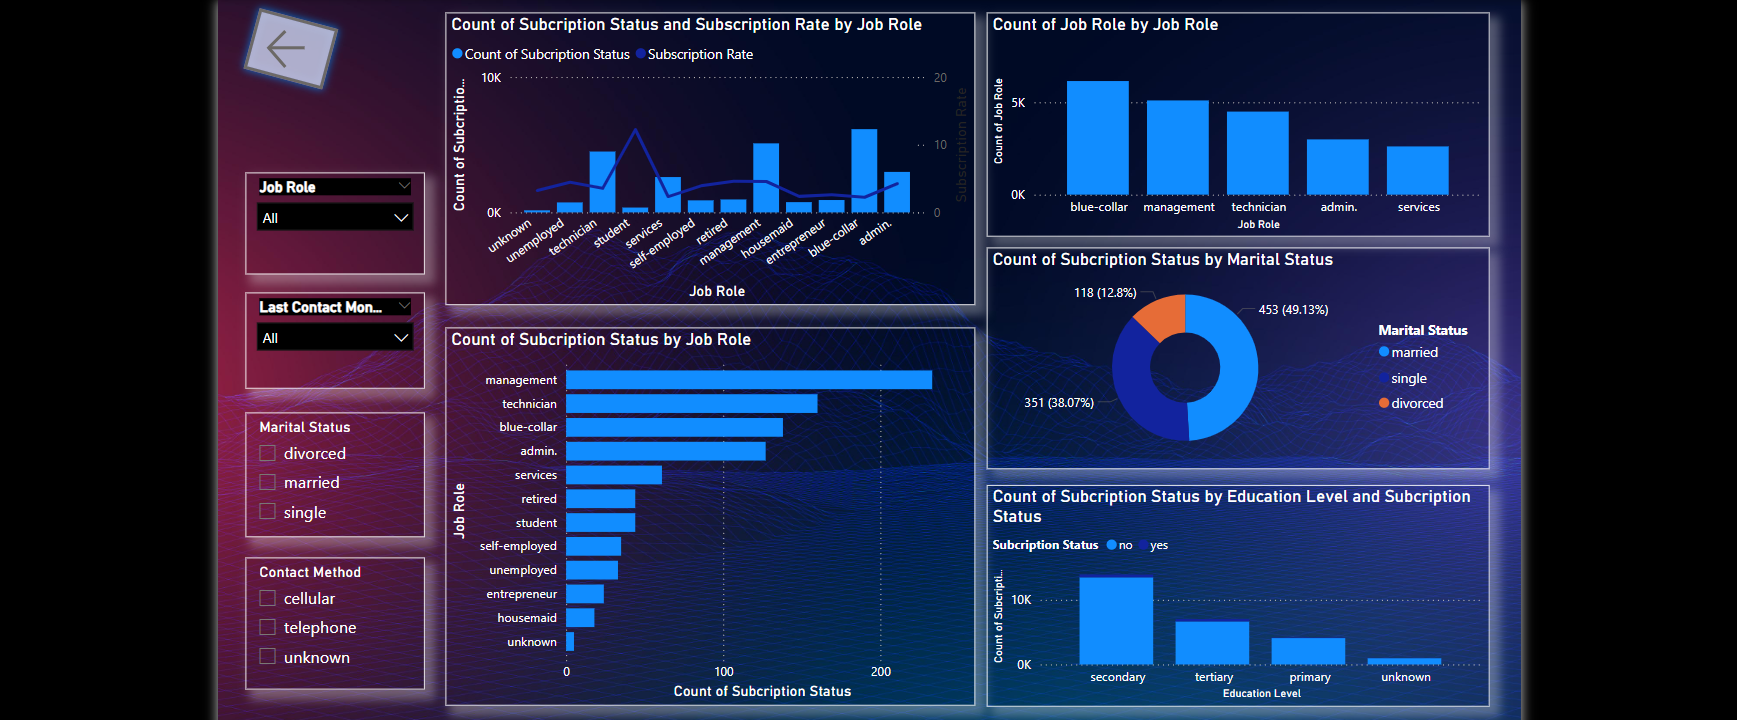

What the dashboard file says about the page in this screenshot:
{"tool":"powerbi","page":{"name":"Technical Analysis","canvas":[1280,720],"ordinal":2},"visuals":[{"type":"slicer","fields":{"Values":["cleaned_train.Job Role"]},"box":[27.6,169.4,176,99.8],"z":0},{"type":"slicer","fields":{"Values":["cleaned_train.Last Contact Month"]},"box":[27.6,287.6,176,94.5],"z":1000},{"type":"slicer","fields":{"Values":["cleaned_train.Contact Method"]},"box":[27.6,547.6,176,130],"z":2000},{"type":"slicer","fields":{"Values":["cleaned_train.Marital Status"]},"box":[27.6,404.4,176,122.1],"z":3000},{"type":"clusteredBarChart","title":"Subscription by Job Role","fields":{"Category":["cleaned_train.Job Role"],"Y":["CountNonNull(cleaned_train.Subcription Status)"]},"box":[223.7,322.1,520.4,371.2],"z":4000},{"type":"columnChart","title":"Subscription by Education Level","fields":{"Category":["cleaned_train.Education Level"],"Series":["cleaned_train.Subcription Status"],"Y":["CountNonNull(cleaned_train.Subcription Status)"]},"box":[755.2,476,493.4,217.4],"z":5000},{"type":"pieChart","title":"Subscription by Marital Status","fields":{"Category":["cleaned_train.Marital Status"],"Y":["CountNonNull(cleaned_train.Subcription Status)"]},"box":[755.2,242.7,493.4,217.4],"z":6000},{"type":"lineClusteredColumnComboChart","title":"Job Role Distribution","fields":{"Category":["cleaned_train.Job Role"],"Y":["CountNonNull(cleaned_train.Subcription Status)"],"Y2":["cleaned_train.Subscription Rate"]},"box":[223.7,12.7,520.4,287.2],"z":7000},{"type":"columnChart","fields":{"Category":["cleaned_train.Job Role"],"Y":["CountNonNull(cleaned_train.Job Role)"]},"box":[755.2,12.7,493.4,220],"z":8000},{"type":"actionButton","box":[0,0,143.1,95.9],"z":9000}]}

Visuals, with their boxes in screenshot pixels (x1, y1, x2, y2):
slicer - cleaned_train.Job Role: <box>241,164,421,266</box>
slicer - cleaned_train.Last Contact Month: <box>241,285,421,381</box>
slicer - cleaned_train.Contact Method: <box>241,550,421,683</box>
slicer - cleaned_train.Marital Status: <box>241,404,421,529</box>
"Subscription by Job Role" clusteredBarChart: <box>441,320,973,699</box>
"Subscription by Education Level" columnChart: <box>984,477,1488,699</box>
"Subscription by Marital Status" pieChart: <box>984,239,1488,461</box>
"Job Role Distribution" lineClusteredColumnComboChart: <box>441,4,973,297</box>
columnChart - cleaned_train.Job Role x CountNonNull(cleaned_train.Job Role): <box>984,4,1488,229</box>
actionButton: <box>213,0,359,89</box>
